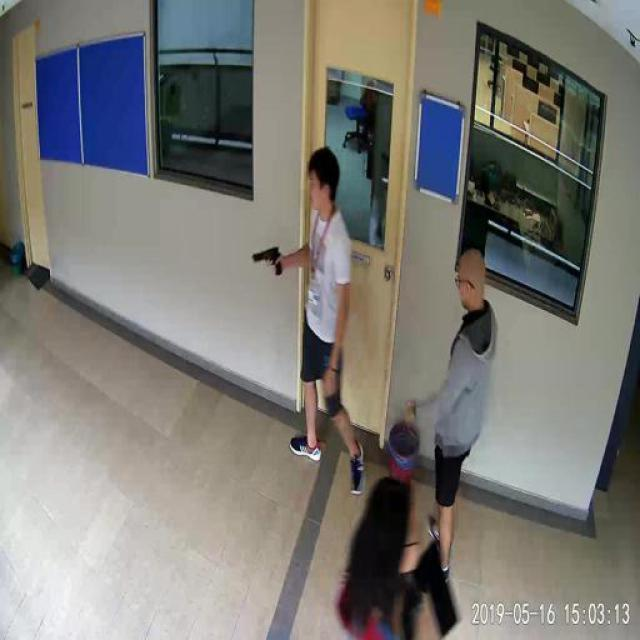weapon: (250, 244, 286, 276)
